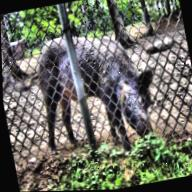boar: (46, 16, 172, 148)
